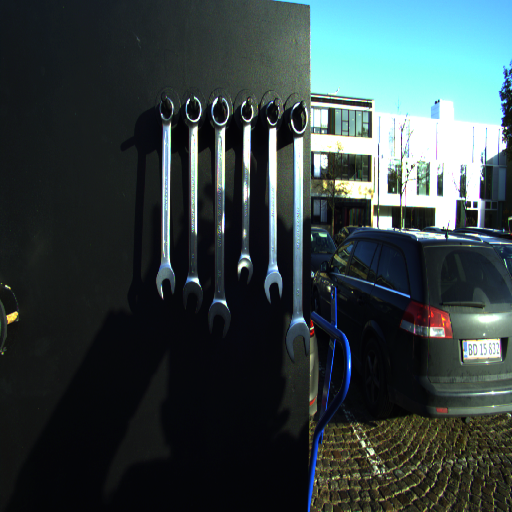bottom: (284, 320, 310, 364), (206, 300, 231, 339), (179, 282, 203, 316), (261, 272, 284, 304), (154, 268, 176, 300), (234, 255, 254, 288)
top: (210, 94, 231, 133), (288, 101, 309, 140), (183, 94, 202, 128), (263, 99, 283, 131), (238, 97, 256, 129), (157, 97, 176, 123)
